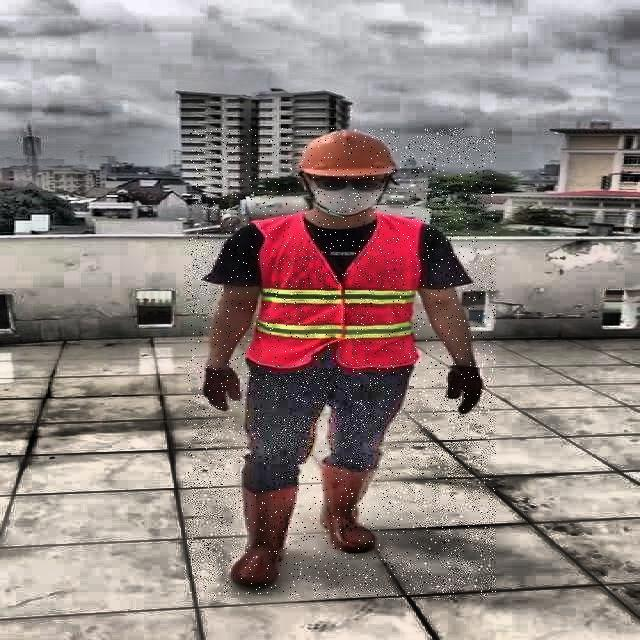safety_helmet: (290, 129, 400, 178)
safety_jacket: (256, 216, 418, 367)
